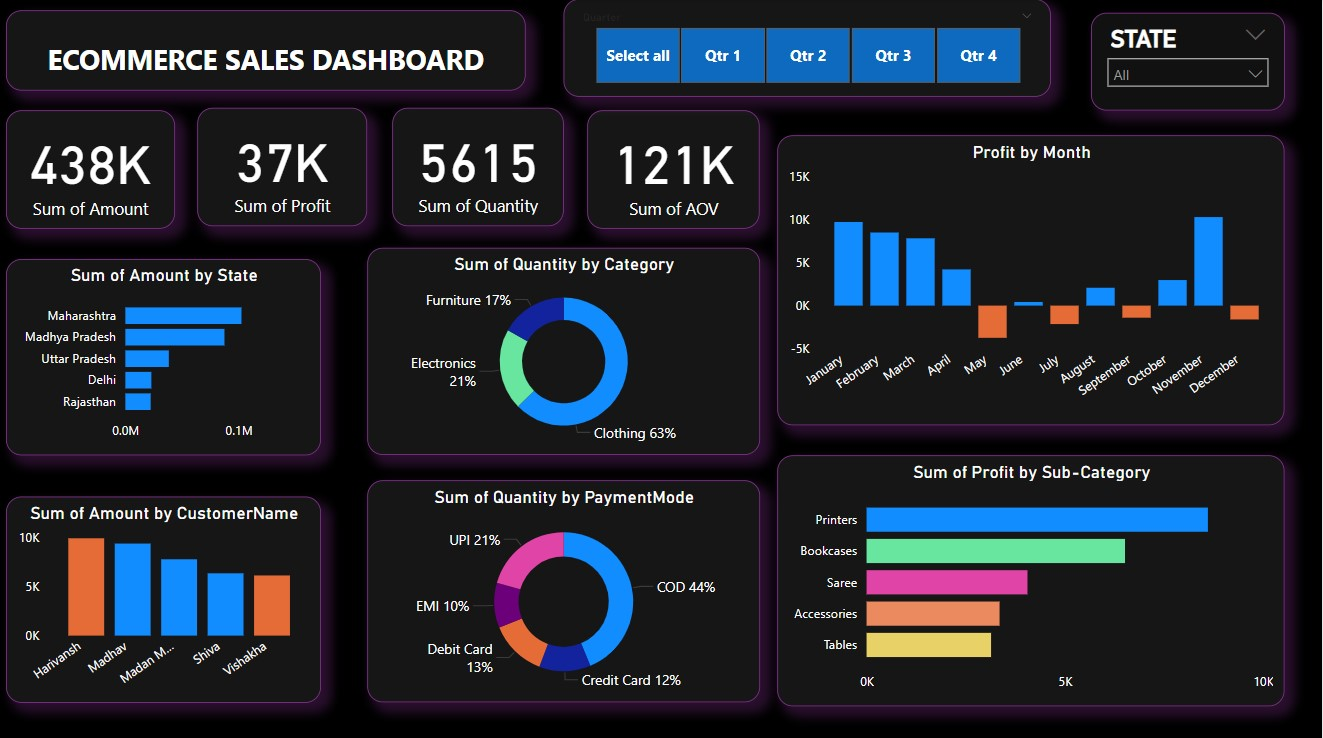

Layout of this report page (visuals, bound fields, positions):
{"tool":"powerbi","page":{"name":"Page 1","canvas":[1280,720],"ordinal":0},"visuals":[{"type":"textbox","box":[9.7,10.9,501.9,77.2],"z":0},{"type":"columnChart","title":"Profit by Month","fields":{"Y":["Sum(Details.Profit)"],"Category":["Orders.Order Date.Variation.Date Hierarchy.Month"]},"box":[754,131.5,489.8,279.9],"z":1000},{"type":"barChart","fields":{"Y":["Sum(Details.Profit)"],"Category":["Details.Sub-Category"]},"box":[754,440.4,489.8,242.5],"z":2000},{"type":"donutChart","fields":{"Category":["Details.Category"],"Y":["Sum(Details.Quantity)"]},"box":[358.3,240.1,378.8,200.3],"z":3000},{"type":"donutChart","fields":{"Y":["Sum(Details.Quantity)"],"Series":["Details.PaymentMode"]},"box":[358.3,464.5,378.8,214.7],"z":4000},{"type":"card","fields":{"Values":["Sum(Details.Amount)"]},"box":[9.7,107.4,162.9,114.6],"z":5000},{"type":"card","fields":{"Values":["Sum(Details.Quantity)"]},"box":[382.4,105,165.3,114.6],"z":6000},{"type":"card","fields":{"Values":["Sum(Details.Profit)"]},"box":[194.2,105,164.1,114.6],"z":7000},{"type":"card","fields":{"Values":["Sum(Details.AverageOrderValue)"]},"box":[570.6,107.4,166.5,114.6],"z":8000},{"type":"barChart","fields":{"Y":["Sum(Details.Amount)"],"Category":["Orders.State"]},"box":[9.7,250.9,304,189.4],"z":9000},{"type":"columnChart","fields":{"Y":["Sum(Details.Amount)"],"Category":["Orders.CustomerName"]},"box":[9.7,480.2,304,199.1],"z":10000},{"type":"slicer","fields":{"Values":["Orders.Order Date.Variation.Date Hierarchy.Quarter"]},"box":[547.7,0,470.5,94.1],"z":11000},{"type":"slicer","fields":{"Values":["Orders.State"]},"box":[1056.8,13.3,187,94.1],"z":12000}]}

Visuals, with their boxes in screenshot pixels (x1, y1, x2, y2), scaled from the page's 1280x720 canvas onto the 1323x738 screenshot:
textbox: bbox=[10, 11, 529, 90]
"Profit by Month" columnChart: bbox=[779, 135, 1286, 422]
barChart - Sum(Details.Profit) x Details.Sub-Category: bbox=[779, 451, 1286, 700]
donutChart - Details.Category x Sum(Details.Quantity): bbox=[370, 246, 762, 451]
donutChart - Sum(Details.Quantity) x Details.PaymentMode: bbox=[370, 476, 762, 696]
card - Sum(Details.Amount): bbox=[10, 110, 178, 228]
card - Sum(Details.Quantity): bbox=[395, 108, 566, 225]
card - Sum(Details.Profit): bbox=[201, 108, 370, 225]
card - Sum(Details.AverageOrderValue): bbox=[590, 110, 762, 228]
barChart - Sum(Details.Amount) x Orders.State: bbox=[10, 257, 324, 451]
columnChart - Sum(Details.Amount) x Orders.CustomerName: bbox=[10, 492, 324, 696]
slicer - Orders.Order Date.Variation.Date Hierarchy.Quarter: bbox=[566, 0, 1052, 96]
slicer - Orders.State: bbox=[1092, 14, 1286, 110]
